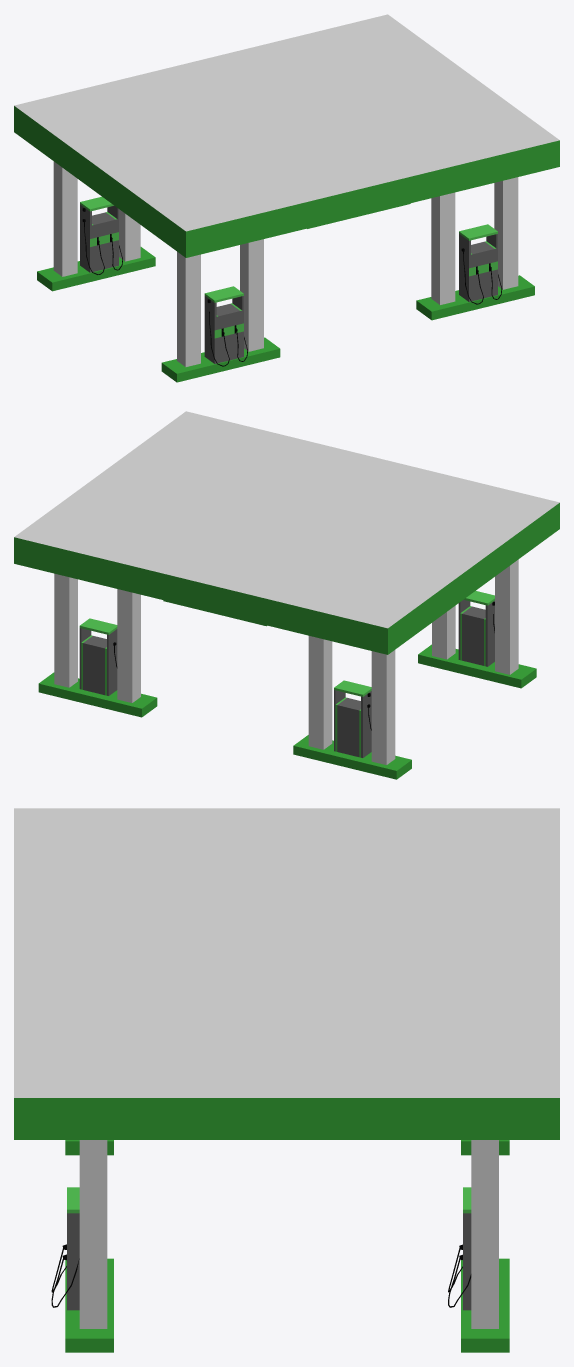
Rendered from station (1).fbx.
3 views of the same model, one above another, from view 1: azimuth 30°, elevation 25°; view 2: azimuth 150°, elevation 25°; view 3: azimuth 270°, elevation 25° (orthographic). The views are drawn at different scales.
Parts seen in each view (by area): view 1: Gas station; view 2: Gas station; view 3: Gas station.
Boxes of the visible parts, left/top/right/bottom form: Gas station: left=14, top=14, right=559, bottom=382; Gas station: left=14, top=411, right=559, bottom=779; Gas station: left=14, top=808, right=559, bottom=1352.
Bounding box in the file's own units: 598 × 252 × 476.
